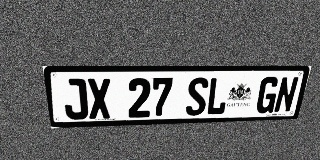2: (128, 78, 151, 118)
7: (150, 78, 173, 117)
G: (255, 77, 281, 113)
J: (61, 78, 89, 120)
L: (205, 77, 230, 115)
N: (273, 77, 300, 113)
S: (185, 77, 209, 116)
X: (86, 78, 111, 119)
